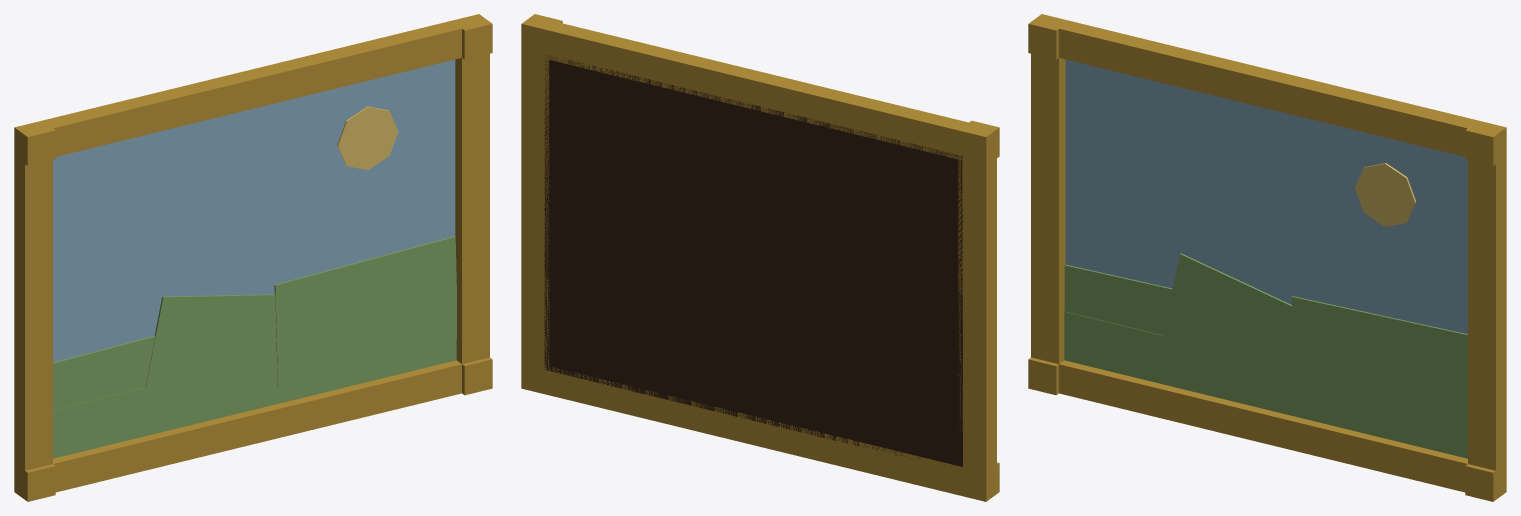
Rendered from Prop_Gal_LivingFrame_Half_LOD1.glb.
The picture shows the model from 3 angles, left to right: view 1: azimuth 30°, elevation 25°; view 2: azimuth 150°, elevation 25°; view 3: azimuth 330°, elevation 25°; orthographic projection.
Parts seen in each view (by area): view 1: Prop_Gal_LivingFrame_Half_Canvas, Prop_Gal_LivingFrame_Half; view 2: Prop_Gal_LivingFrame_Half; view 3: Prop_Gal_LivingFrame_Half_Canvas, Prop_Gal_LivingFrame_Half.
Boxes of the visible parts, x1,y1,x2,y2 form: Prop_Gal_LivingFrame_Half_Canvas: (53, 59, 456, 458); Prop_Gal_LivingFrame_Half: (14, 14, 492, 501); Prop_Gal_LivingFrame_Half: (521, 14, 999, 501); Prop_Gal_LivingFrame_Half_Canvas: (1064, 59, 1467, 458); Prop_Gal_LivingFrame_Half: (1028, 14, 1506, 501).
Size of the model in its own units: 2 by 1.5 by 0.1.
